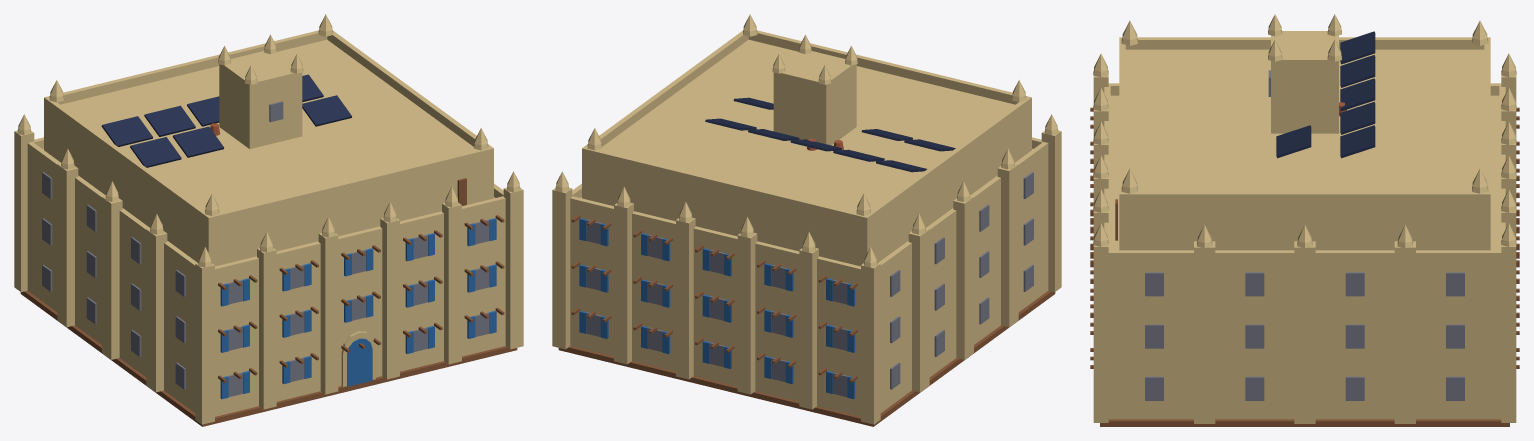
The model's file is house-2x2-4f-banco-a-solar.glb.
3 renders of one model, left to right at view 1: azimuth 30°, elevation 25°; view 2: azimuth 150°, elevation 25°; view 3: azimuth 270°, elevation 25°, orthographic. The views are drawn at different scales.
Visible parts, largest first — view 1: house-2x2-4f-banco-a-solar; view 2: house-2x2-4f-banco-a-solar; view 3: house-2x2-4f-banco-a-solar.
Part boxes in pixels (x1,y1,x2,y2): house-2x2-4f-banco-a-solar: (14,14,523,426); house-2x2-4f-banco-a-solar: (552,14,1061,426); house-2x2-4f-banco-a-solar: (1090,14,1519,426).
Bounding box in the file's own units: 1.99 × 1.6 × 2.01.
Materials: 1 (1 with a texture image).
